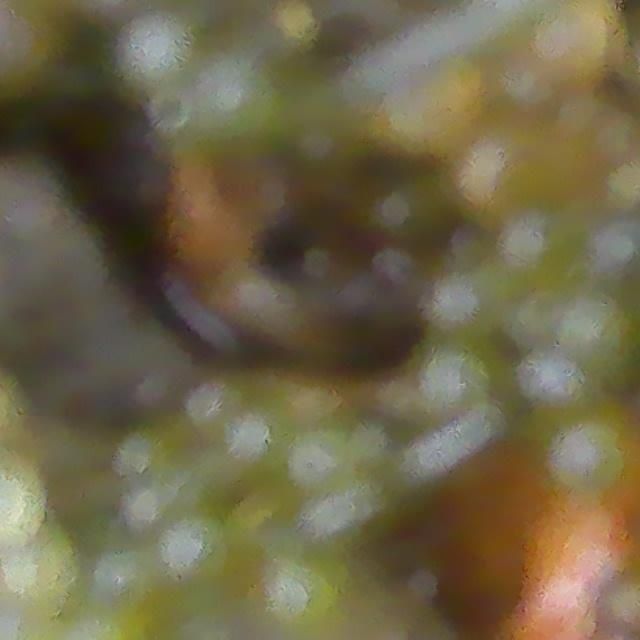SeaGrape: (184, 46, 293, 156), (365, 68, 487, 149), (466, 135, 578, 223), (548, 409, 638, 499), (540, 0, 625, 94), (550, 286, 638, 376), (113, 10, 202, 96), (156, 507, 237, 585), (90, 540, 162, 612), (517, 347, 587, 410), (585, 211, 640, 277)
